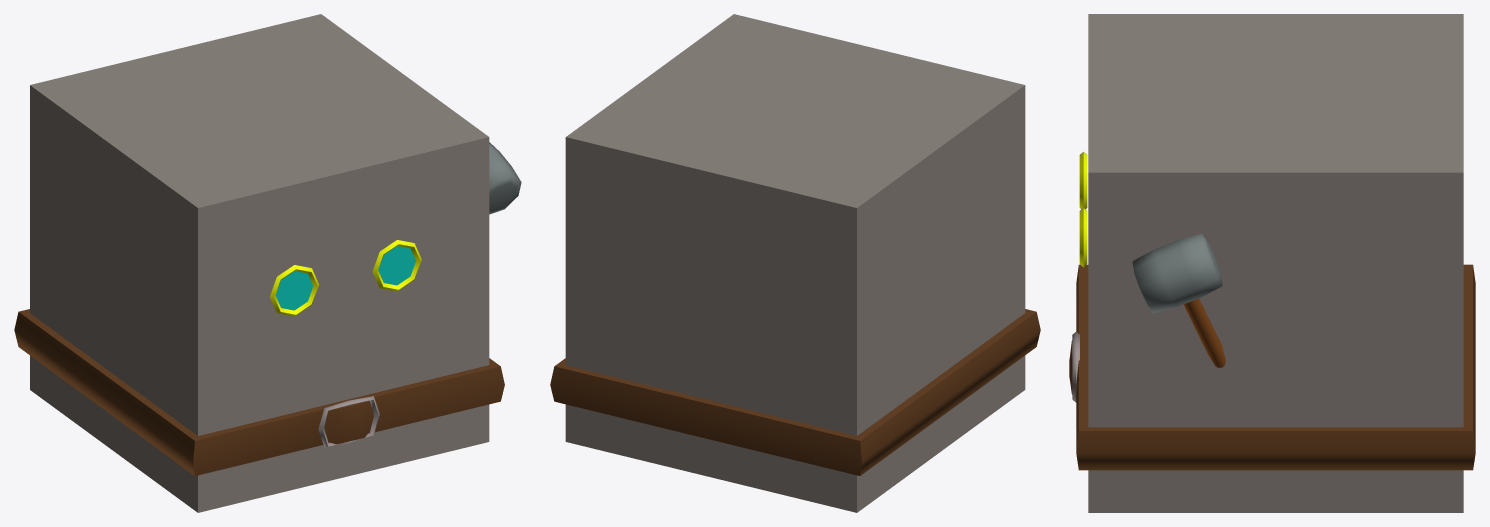
The model's file is Blacksmith.fbx.
The picture shows the model from 3 angles, left to right: view 1: azimuth 30°, elevation 25°; view 2: azimuth 150°, elevation 25°; view 3: azimuth 270°, elevation 25°; orthographic projection. The views are drawn at different scales.
Visible parts, largest first — view 1: Cube, Capsule, Disc, Disc_2, Torus_1_2, Torus_1, Torus; view 2: Cube; view 3: Cube, Capsule, Cylinder, Torus_1, Torus_1_2.
Boxes of the visible parts, x1,y1,x2,y2 form: Cube: (14, 14, 504, 512); Capsule: (489, 142, 521, 214); Disc: (378, 246, 415, 285); Disc_2: (275, 271, 313, 310); Torus_1_2: (270, 265, 318, 316); Torus_1: (372, 240, 421, 291); Torus: (318, 396, 379, 447); Cube: (550, 14, 1040, 512); Cube: (1069, 14, 1475, 512); Capsule: (1132, 233, 1222, 313); Cylinder: (1184, 298, 1225, 367); Torus_1: (1079, 208, 1087, 267); Torus_1_2: (1079, 152, 1087, 209).
Bounding box in the file's own units: 246 × 200 × 216.
